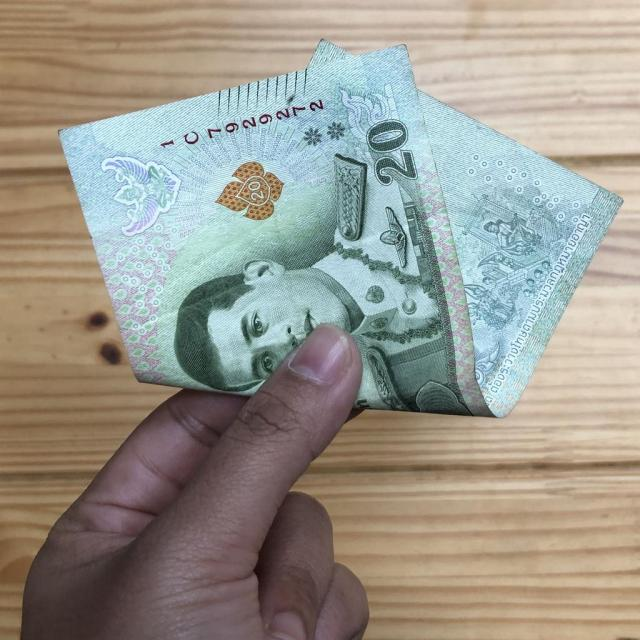THAI20: (59, 41, 621, 416)
